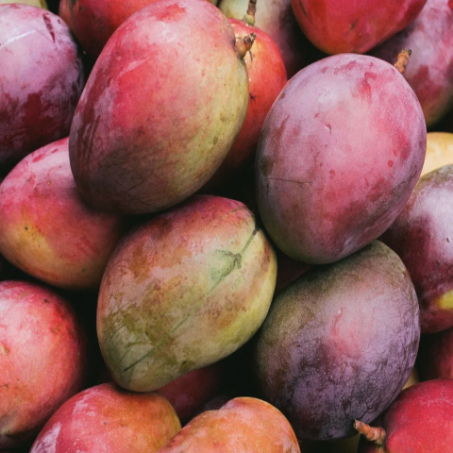mango: (46, 0, 269, 224), (254, 25, 432, 267), (73, 193, 298, 383), (246, 236, 430, 445)
